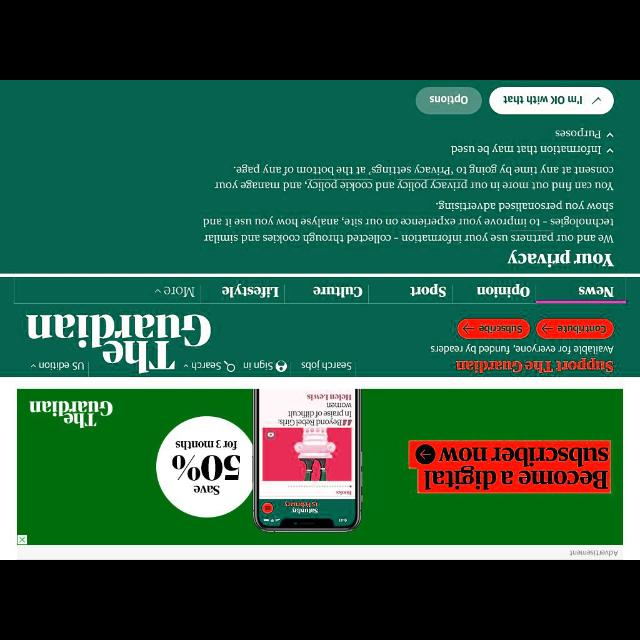icon: (223, 361, 235, 371), (540, 324, 552, 334), (462, 323, 474, 333), (276, 361, 286, 372), (592, 96, 602, 106), (606, 133, 614, 139), (154, 288, 160, 294), (606, 149, 614, 153), (184, 364, 188, 368), (30, 364, 34, 368)
iframe: (18, 388, 624, 560)
image: (28, 314, 210, 374)
multitab: (14, 278, 626, 304)
spinner: (14, 276, 202, 302), (27, 358, 88, 374), (181, 360, 221, 374)
text: (203, 200, 612, 243), (214, 162, 614, 192), (456, 358, 612, 374), (431, 343, 613, 355), (508, 249, 614, 267), (451, 144, 602, 156), (313, 284, 363, 298), (222, 284, 278, 296), (503, 96, 582, 104), (478, 285, 530, 297), (41, 358, 84, 372), (428, 92, 468, 105), (409, 282, 446, 296), (301, 361, 351, 371), (558, 323, 606, 333), (579, 284, 613, 298), (556, 128, 602, 138), (478, 323, 522, 333), (164, 284, 193, 298), (192, 359, 220, 371), (243, 361, 273, 371)
textbutton: (488, 86, 614, 114), (416, 86, 482, 114), (536, 318, 614, 338), (458, 318, 530, 338)
